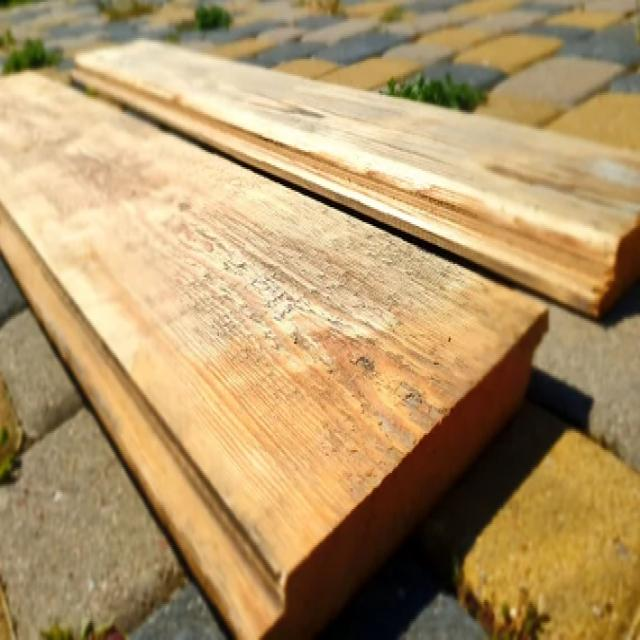have-wooden-eyes: (0, 74, 546, 636), (72, 40, 640, 316)
perfect-wooden-plate: (0, 74, 546, 635), (72, 40, 640, 316)
